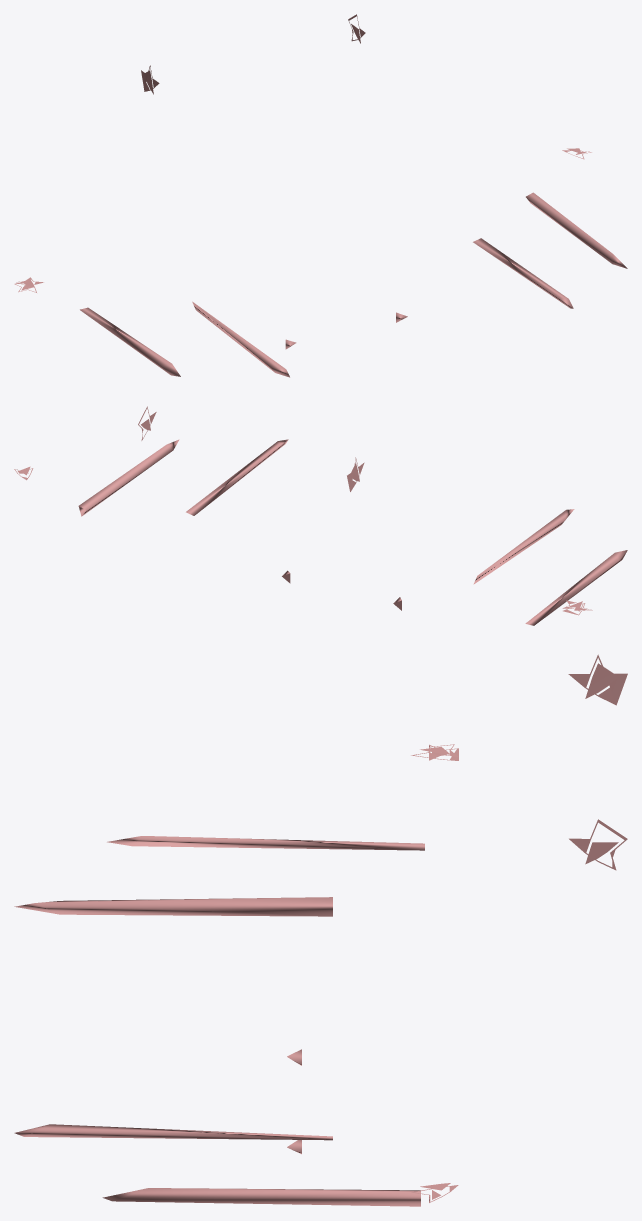
Rendered from m_jet_647e4317.glb.
3 views of the same model, one above another, from view 1: azimuth 30°, elevation 25°; view 2: azimuth 150°, elevation 25°; view 3: azimuth 270°, elevation 25° (orthographic). The views are drawn at different scales.
Visible parts, largest first — view 1: mesh; view 2: mesh; view 3: mesh.
Boxes of the visible parts, x1,y1,x2,y2 form: mesh: [14, 14, 627, 377]; mesh: [14, 406, 627, 625]; mesh: [14, 654, 627, 1206].
Size of the model in its own units: 9080 by 3473 by 5138.
